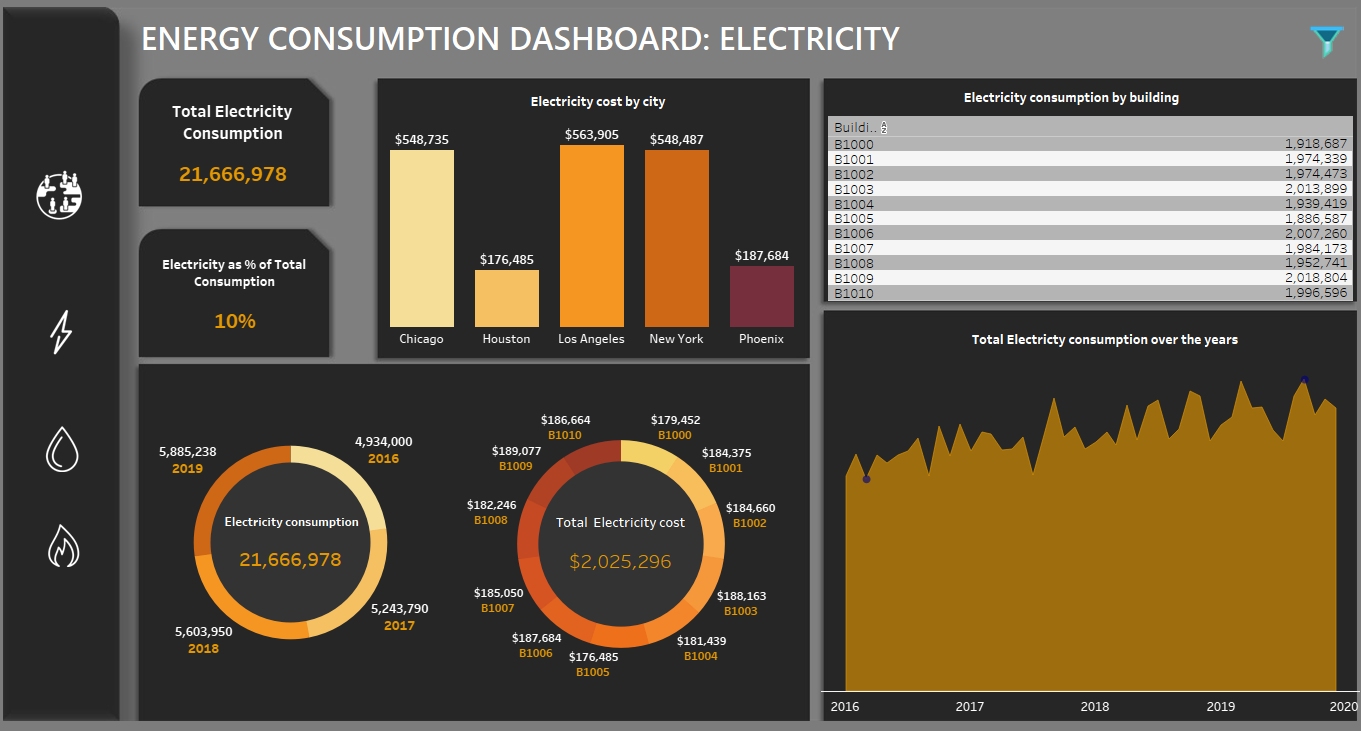

What the dashboard file says about the page in this screenshot:
{"tool":"tableau","page":{"name":"Dashboard 2","canvas":[1366,720],"ordinal":1},"visuals":[{"type":"image","param":"Image/ignite bg ener 2.jpg","box":[0,0,1366,720]},{"type":"text","box":[141,3,830,60]},{"type":"dashboard-object","box":[1307,18,46,39]},{"type":"filter","title":"electricty cost by city","param":"[federated.14768py0nmov6b1293c7i02sff1x].[none:City:nk]","box":[1190,56,168,157]},{"type":"text","box":[461,75,280,44]},{"type":"text","box":[832,78,485,30]},{"type":"worksheet","title":"total ele cosm","mark":"Automatic","box":[144,82,184,117]},{"type":"worksheet","title":"Sheet 12","mark":"Automatic","rows":["Building"],"box":[831,112,525,185]},{"type":"worksheet","title":"electricty cost by city","mark":"Automatic","rows":["Total Electricity cost"],"cols":["City"],"box":[382,115,426,234]},{"type":"dashboard-object","box":[9,165,106,52]},{"type":"worksheet","title":"ele cosm  per","mark":"Automatic","box":[140,229,196,124]},{"type":"dashboard-object","box":[15,302,104,52]},{"type":"text","box":[897,314,422,42]},{"type":"worksheet","title":"electricty trend","mark":"Area","rows":["Electricity Consumption","Calculation_1465640238110715904"],"cols":["Date"],"box":[824,357,539,360]},{"type":"worksheet","title":"Electricity","mark":"Pie","rows":["Calculation_1600185276623892486","Calculation_1600185276623892486"],"box":[144,359,299,359]},{"type":"worksheet","title":"Electricity cst","mark":"Pie","rows":["Calculation_1600185276623892486","Calculation_1600185276623892486"],"box":[436,361,376,358]},{"type":"dashboard-object","box":[11,422,109,46]},{"type":"dashboard-object","box":[13,520,107,43]}]}

Visuals, with their boxes in screenshot pixels (x1, y1, x2, y2), scaled from the page's 1366x720 canvas onto the 1361x731 screenshot:
image: [0, 0, 1360, 730]
text: [140, 3, 967, 64]
dashboard-object: [1302, 18, 1348, 58]
"electricty cost by city" filter: [1186, 57, 1353, 216]
text: [459, 76, 738, 121]
text: [829, 79, 1312, 110]
"total ele cosm" worksheet: [143, 83, 327, 202]
"Sheet 12" worksheet: [828, 114, 1351, 302]
"electricty cost by city" worksheet: [381, 117, 805, 354]
dashboard-object: [9, 168, 115, 220]
"ele cosm  per" worksheet: [139, 232, 335, 358]
dashboard-object: [15, 307, 119, 359]
text: [894, 319, 1314, 361]
"electricty trend" worksheet (Area marks): [821, 362, 1358, 728]
"Electricity" worksheet (Pie marks): [143, 364, 441, 729]
"Electricity cst" worksheet (Pie marks): [434, 367, 809, 730]
dashboard-object: [11, 428, 120, 475]
dashboard-object: [13, 528, 120, 572]
